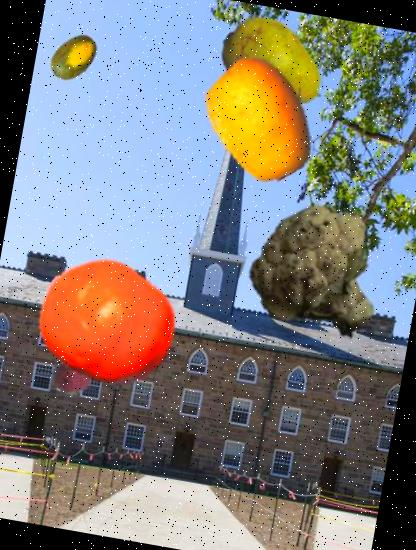Cauliflower: (241, 189, 399, 348)
Clementine: (26, 243, 185, 402)
Kumquats: (186, 46, 332, 194)
Melon: (44, 28, 107, 91)
Pear: (208, 1, 339, 132)
Strawberry: (44, 339, 107, 402)
